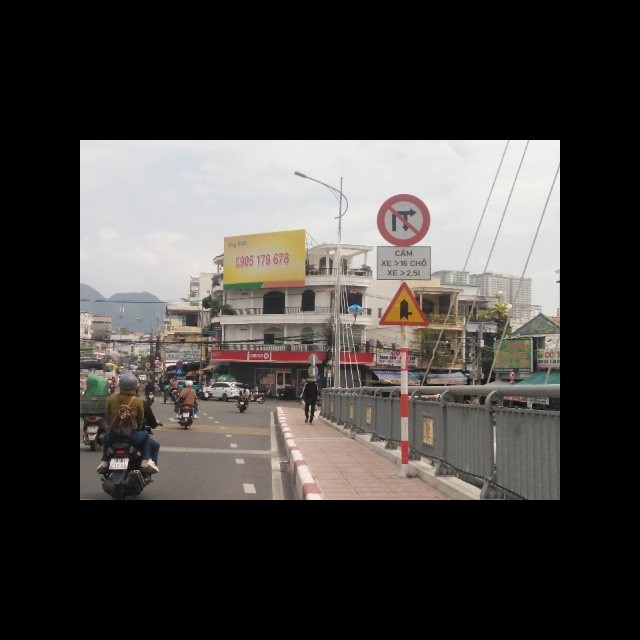Cấm quay đầu và rẽ phải: (378, 193, 431, 247)
Giao nhau với đường không ưu tiên: (378, 282, 427, 327)
